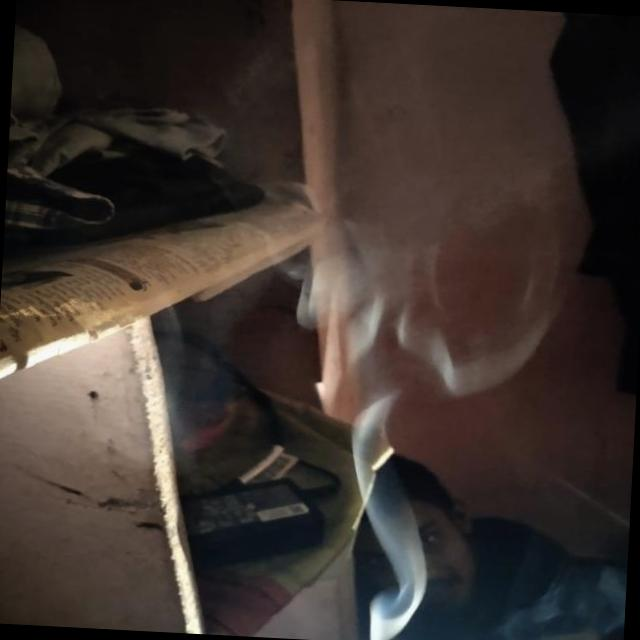smoke: (319, 242, 530, 640)
